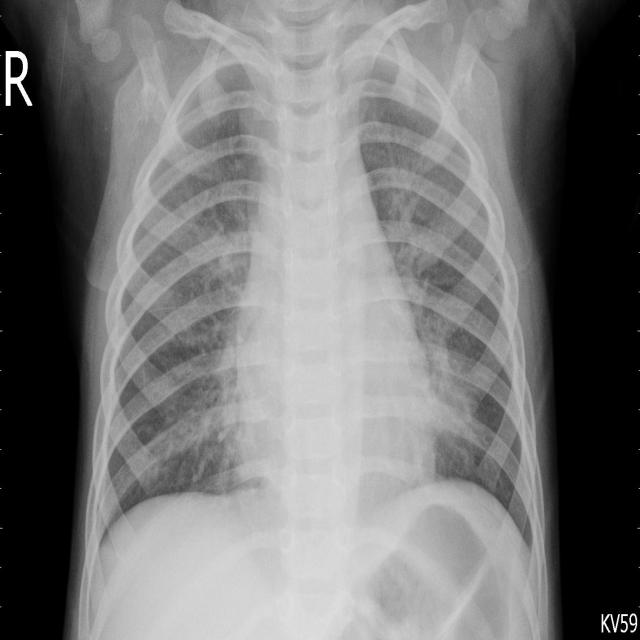low-pneumonia: (170, 198, 250, 469), (419, 263, 483, 459), (386, 135, 438, 293)
